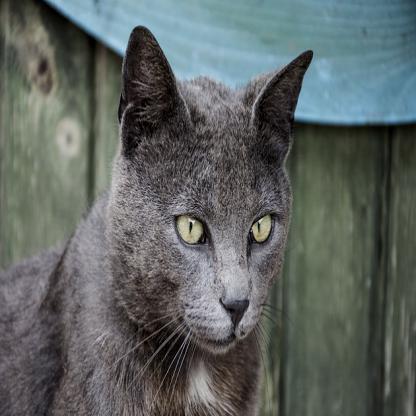cat: (0, 25, 314, 415)
